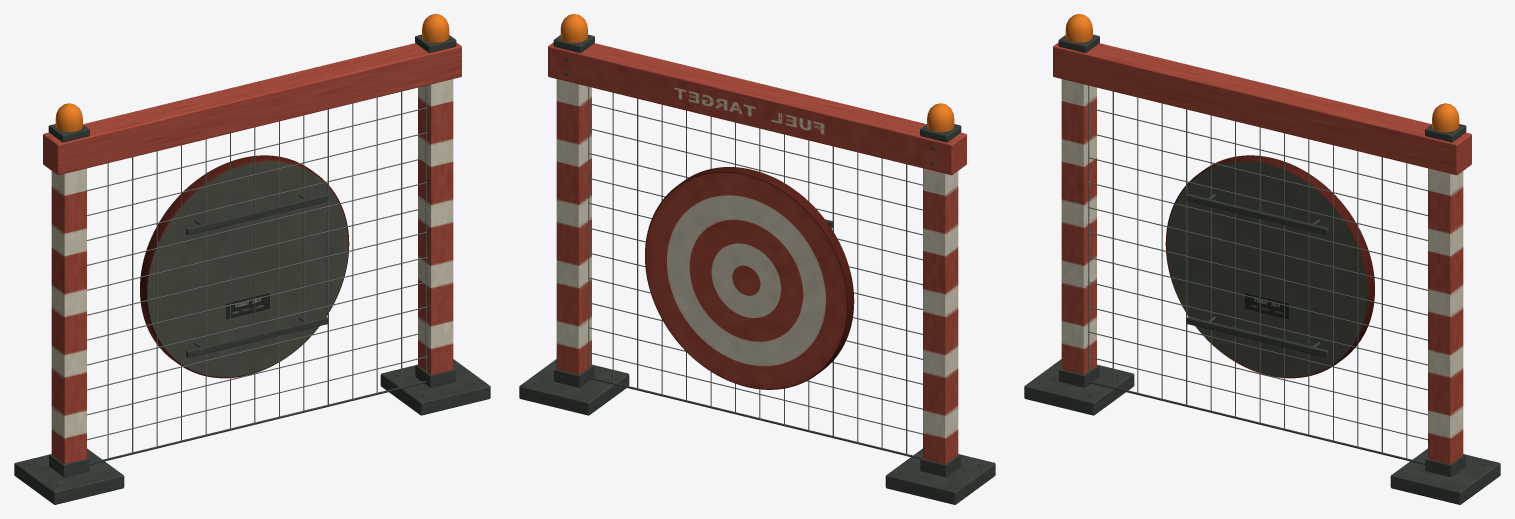
File: Fuel_Target_FIXED.fbx
3 renders of one model, left to right at view 1: azimuth 30°, elevation 25°; view 2: azimuth 150°, elevation 25°; view 3: azimuth 330°, elevation 25°, orthographic.
Parts seen in each view (by area): view 1: Fuel_Target_FIXED; view 2: Fuel_Target_FIXED; view 3: Fuel_Target_FIXED.
Boxes of the visible parts, x1,y1,x2,y2 form: Fuel_Target_FIXED: [14, 14, 490, 504]; Fuel_Target_FIXED: [519, 14, 995, 504]; Fuel_Target_FIXED: [1024, 14, 1500, 504].
Size of the model in its own units: 410 by 339 by 66.
